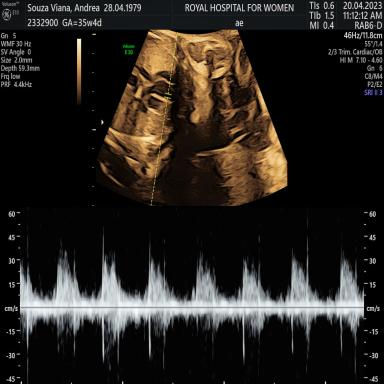Ultrasound-Waves: (26, 211, 360, 384)
